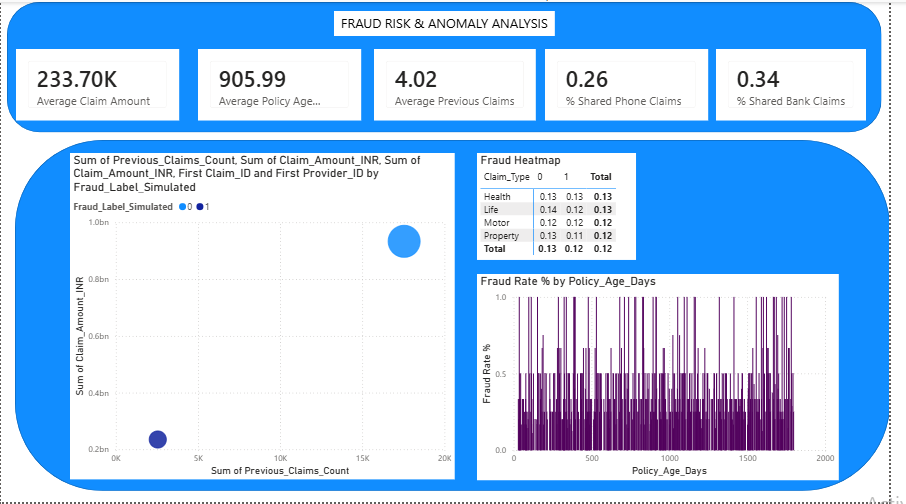

The dashboard page shown, as its layout file describes it:
{"tool":"powerbi","page":{"name":"Risk & Anomalies","canvas":[1280,720],"ordinal":1},"visuals":[{"type":"shape","box":[20.2,198.7,1260,505.4],"z":0},{"type":"shape","box":[8.8,0,1259.5,187.7],"z":1000},{"type":"textbox","box":[479.5,13,318.2,36],"z":2000},{"type":"cardVisual","fields":{"Data":["Insurance_Fraud_Network_Dataset_5000_Leads.Average Claim Amount"]},"box":[22,67.4,234.6,102.6],"z":3000},{"type":"cardVisual","fields":{"Data":["Insurance_Fraud_Network_Dataset_5000_Leads.Average Policy Age (Days)"]},"box":[283,67.4,234.6,102.6],"z":4000},{"type":"cardVisual","fields":{"Data":["Insurance_Fraud_Network_Dataset_5000_Leads.Average Previous Claims"]},"box":[536.6,67.4,233.1,102.6],"z":5000},{"type":"cardVisual","fields":{"Data":["Insurance_Fraud_Network_Dataset_5000_Leads.% Shared Phone Claims"]},"box":[783,67.4,234.6,102.6],"z":6000},{"type":"cardVisual","fields":{"Data":["Insurance_Fraud_Network_Dataset_5000_Leads.% Shared Bank Claims"]},"box":[1029.3,67.4,215.5,102.6],"z":7000},{"type":"scatterChart","fields":{"X":["Sum(Insurance_Fraud_Network_Dataset_5000_Leads.Previous_Claims_Count)"],"Y":["Sum(Insurance_Fraud_Network_Dataset_5000_Leads.Claim_Amount_INR)"],"Series":["Insurance_Fraud_Network_Dataset_5000_Leads.Fraud_Label_Simulated"],"Size":["Sum(Insurance_Fraud_Network_Dataset_5000_Leads.Claim_Amount_INR)"]},"box":[98.7,217.7,554.4,470.2],"z":8000},{"type":"pivotTable","title":"Fraud Heatmap","fields":{"Rows":["Insurance_Fraud_Network_Dataset_5000_Leads.Claim_Type"],"Columns":["Insurance_Fraud_Network_Dataset_5000_Leads.High_Risk_Time_Flag"],"Values":["Insurance_Fraud_Network_Dataset_5000_Leads.Fraud Rate %"]},"box":[685.4,217.4,229,154.1],"z":9000},{"type":"columnChart","fields":{"Category":["Insurance_Fraud_Network_Dataset_5000_Leads.Policy_Age_Days"],"Y":["Insurance_Fraud_Network_Dataset_5000_Leads.Fraud Rate %"]},"box":[685.4,391.7,521.3,296.6],"z":10000}]}

Visuals, with their boxes in screenshot pixels (x1, y1, x2, y2), scaled from the page's 1280x720 canvas onto the 906x504 screenshot:
shape: region(14, 139, 905, 493)
shape: region(6, 0, 898, 131)
textbox: region(339, 9, 565, 34)
cardVisual - Insurance_Fraud_Network_Dataset_5000_Leads.Average Claim Amount: region(16, 47, 182, 119)
cardVisual - Insurance_Fraud_Network_Dataset_5000_Leads.Average Policy Age (Days): region(200, 47, 366, 119)
cardVisual - Insurance_Fraud_Network_Dataset_5000_Leads.Average Previous Claims: region(380, 47, 545, 119)
cardVisual - Insurance_Fraud_Network_Dataset_5000_Leads.% Shared Phone Claims: region(554, 47, 720, 119)
cardVisual - Insurance_Fraud_Network_Dataset_5000_Leads.% Shared Bank Claims: region(729, 47, 881, 119)
scatterChart - Sum(Insurance_Fraud_Network_Dataset_5000_Leads.Previous_Claims_Count) x Sum(Insurance_Fraud_Network_Dataset_5000_Leads.Claim_Amount_INR): region(70, 152, 462, 482)
"Fraud Heatmap" pivotTable: region(485, 152, 647, 260)
columnChart - Insurance_Fraud_Network_Dataset_5000_Leads.Policy_Age_Days x Insurance_Fraud_Network_Dataset_5000_Leads.Fraud Rate %: region(485, 274, 854, 482)
